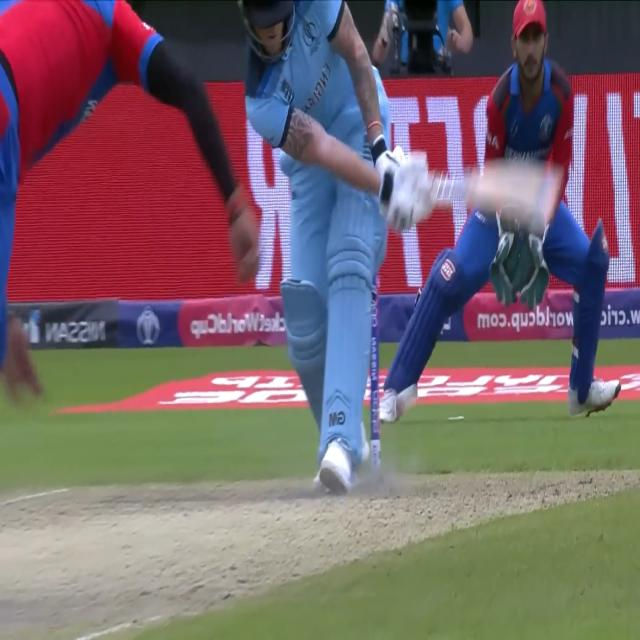ball: (391, 379, 420, 424)
